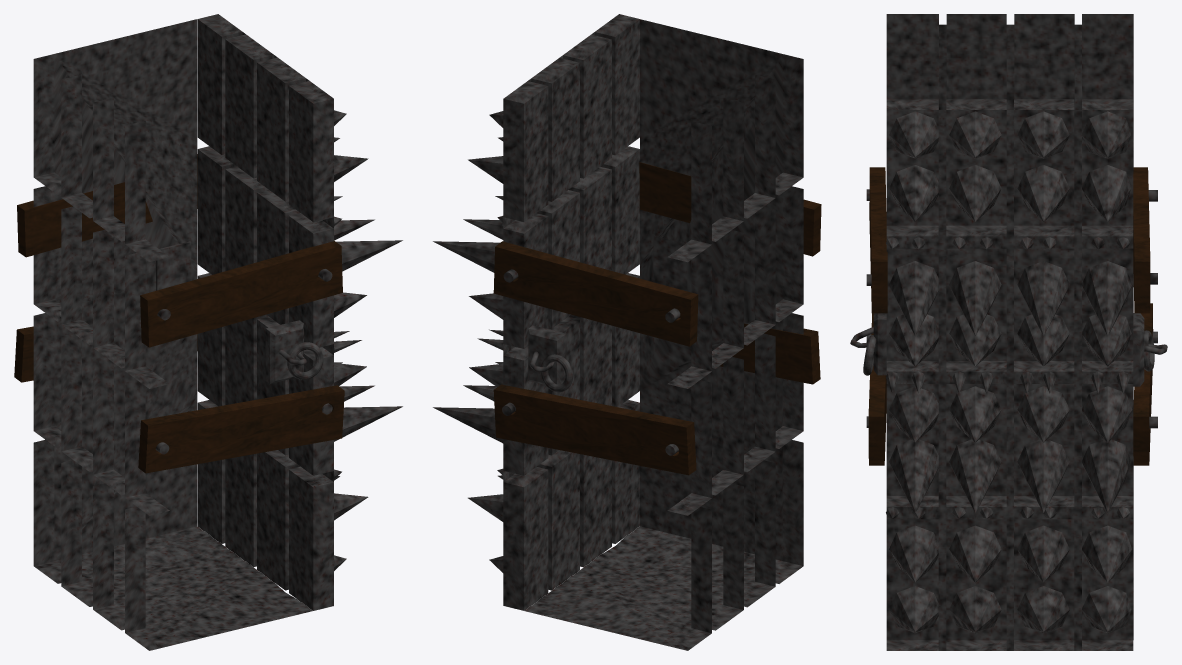
File: OFFICAL TRAP DOOR 16.fbx
3 views of the same model, side by side, from view 1: azimuth 30°, elevation 25°; view 2: azimuth 150°, elevation 25°; view 3: azimuth 270°, elevation 25° (orthographic). The views are drawn at different scales.
Parts seen in each view (by area): view 1: lowploy 2.001; view 2: lowploy 2.001; view 3: lowploy 2.001.
Part boxes in pixels (left/top/right/bottom): lowploy 2.001: left=14, top=14, right=402, bottom=650; lowploy 2.001: left=433, top=14, right=821, bottom=650; lowploy 2.001: left=850, top=14, right=1167, bottom=650.
Size of the model in its own units: 293 by 510 by 271.
